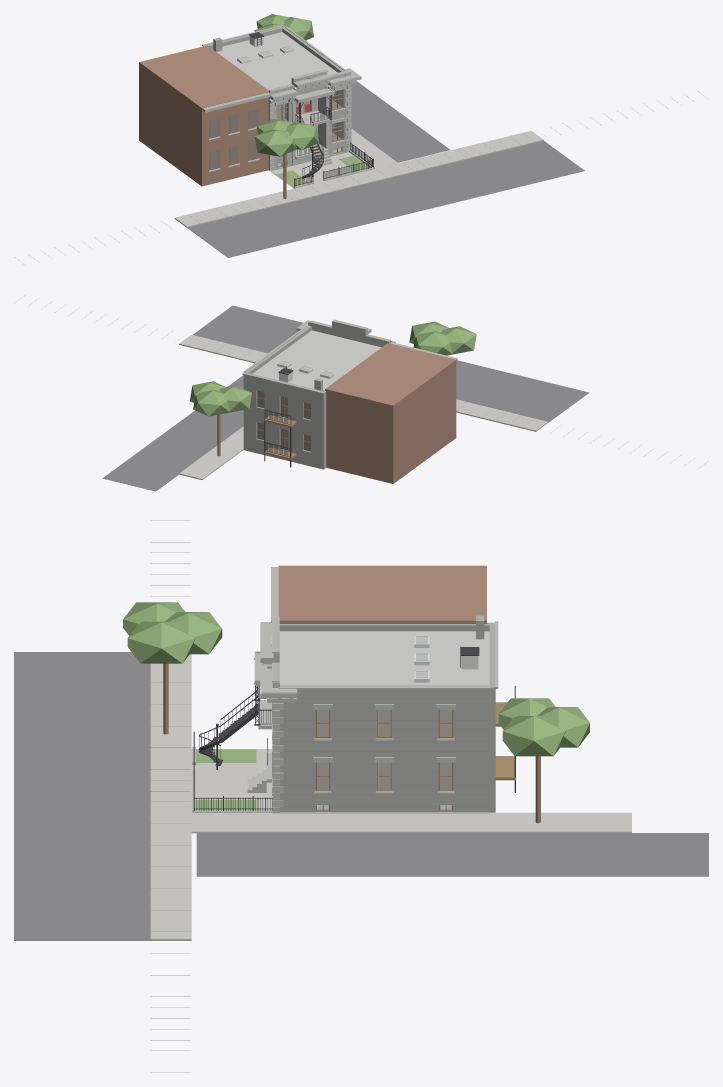
File: clay-plateau-stair-triplex-clay-v002.glb
3 views of the same model, one above another, from view 1: azimuth 30°, elevation 25°; view 2: azimuth 150°, elevation 25°; view 3: azimuth 270°, elevation 25° (orthographic). The views are drawn at different scales.
Visible parts, largest first — view 1: CLAY_ASPHALT, CLAY_NEIGHBOUR, CLAY_CONCRETE, CLAY_ROOF, CLAY_STONE, CLAY_PLANTING, CLAY_WALL, CLAY_GLASS, CLAY_HARDWARE, CLAY_QUOIN, CLAY_BRICK, CLAY_LAWN (+1 smaller); view 2: CLAY_NEIGHBOUR, CLAY_ASPHALT, CLAY_BRICK, CLAY_ROOF, CLAY_CONCRETE, CLAY_PLANTING, CLAY_WALL, CLAY_GLASS, CLAY_TRIM, CLAY_STONE, CLAY_HARDWARE, CLAY_TIMBER (+1 smaller); view 3: CLAY_ASPHALT, CLAY_BRICK, CLAY_CONCRETE, CLAY_NEIGHBOUR, CLAY_ROOF, CLAY_PLANTING, CLAY_STONE, CLAY_JOINT, CLAY_HARDWARE, CLAY_GLASS, CLAY_QUOIN, CLAY_FLOOR (+4 smaller).
Part boxes in pixels (<box>): CLAY_ASPHALT: <box>187,81,584,257</box>; CLAY_NEIGHBOUR: <box>139,45,268,186</box>; CLAY_CONCRETE: <box>174,129,543,227</box>; CLAY_ROOF: <box>212,32,337,89</box>; CLAY_STONE: <box>202,25,374,188</box>; CLAY_PLANTING: <box>254,14,319,156</box>; CLAY_WALL: <box>268,69,350,170</box>; CLAY_GLASS: <box>209,46,342,169</box>; CLAY_HARDWARE: <box>249,32,373,186</box>; CLAY_QUOIN: <box>269,71,351,171</box>; CLAY_BRICK: <box>204,26,343,138</box>; CLAY_LAWN: <box>276,155,370,186</box>; CLAY_NEIGHBOUR: <box>325,343,456,483</box>; CLAY_ASPHALT: <box>102,305,589,491</box>; CLAY_BRICK: <box>243,326,326,469</box>; CLAY_ROOF: <box>252,330,381,390</box>; CLAY_CONCRETE: <box>179,334,548,479</box>; CLAY_PLANTING: <box>190,321,476,416</box>; CLAY_WALL: <box>308,320,390,347</box>; CLAY_GLASS: <box>257,360,332,451</box>; CLAY_TRIM: <box>257,391,310,451</box>; CLAY_STONE: <box>242,319,457,394</box>; CLAY_HARDWARE: <box>264,367,293,467</box>; CLAY_TIMBER: <box>217,414,296,459</box>; CLAY_ASPHALT: <box>14,652,708,940</box>; CLAY_BRICK: <box>279,615,495,812</box>; CLAY_CONCRETE: <box>150,654,631,940</box>; CLAY_NEIGHBOUR: <box>278,565,486,623</box>; CLAY_ROOF: <box>279,631,489,685</box>; CLAY_PLANTING: <box>123,602,589,756</box>; CLAY_STONE: <box>192,567,498,812</box>; CLAY_JOINT: <box>151,520,488,1072</box>; CLAY_HARDWARE: <box>193,646,515,810</box>; CLAY_GLASS: <box>317,636,451,809</box>; CLAY_QUOIN: <box>271,616,455,813</box>; CLAY_FLOOR: <box>317,709,451,788</box>.
Bounding box in the file's own units: 76.52 × 9.3 × 40.7.
